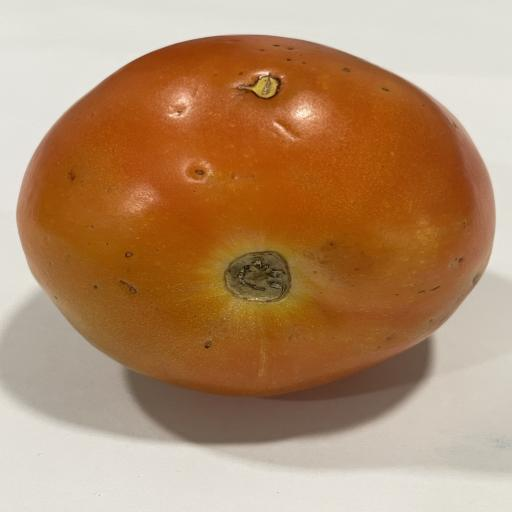unripe: (17, 35, 494, 396)
